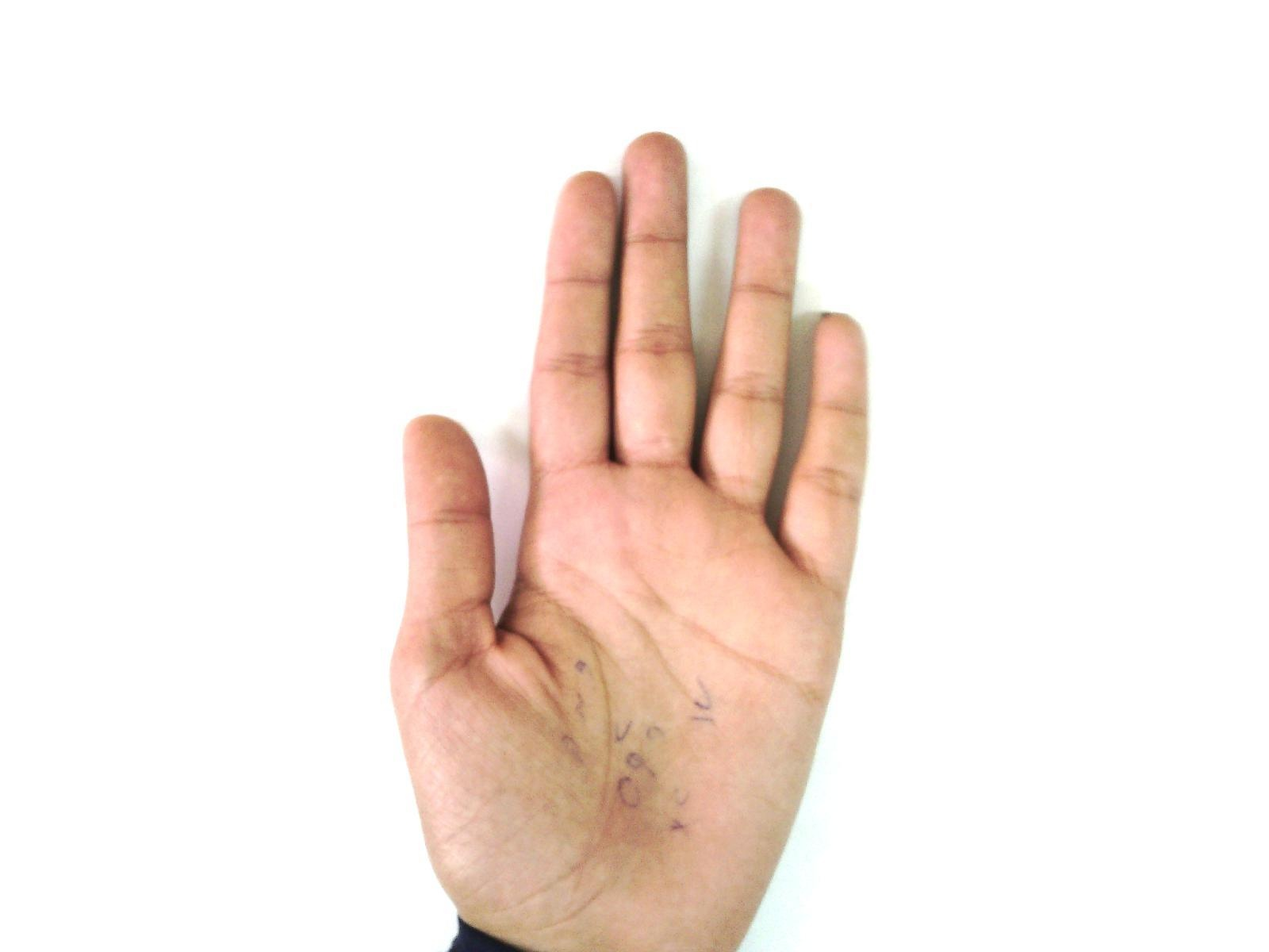open_palm: (387, 131, 873, 950)
